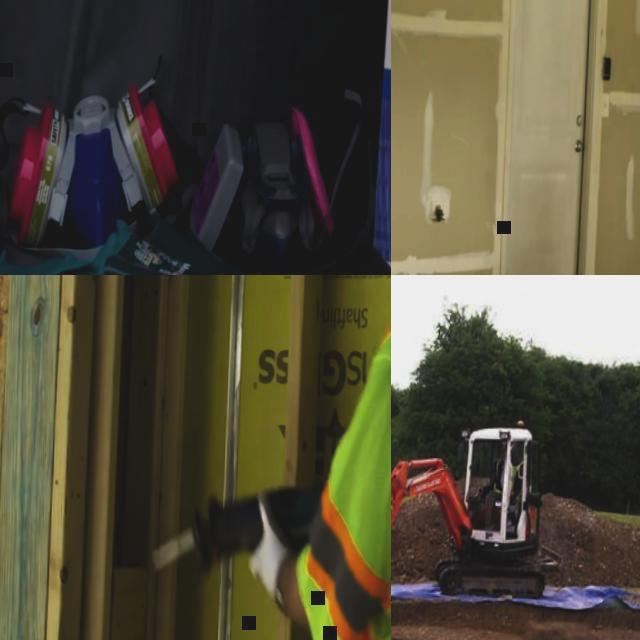helmet: (502, 440, 516, 450)
machinery: (391, 417, 552, 640)
mask: (6, 79, 187, 254), (186, 99, 345, 275)
person: (245, 275, 391, 640), (478, 438, 522, 524)
vest: (302, 275, 391, 640), (496, 456, 522, 496)
